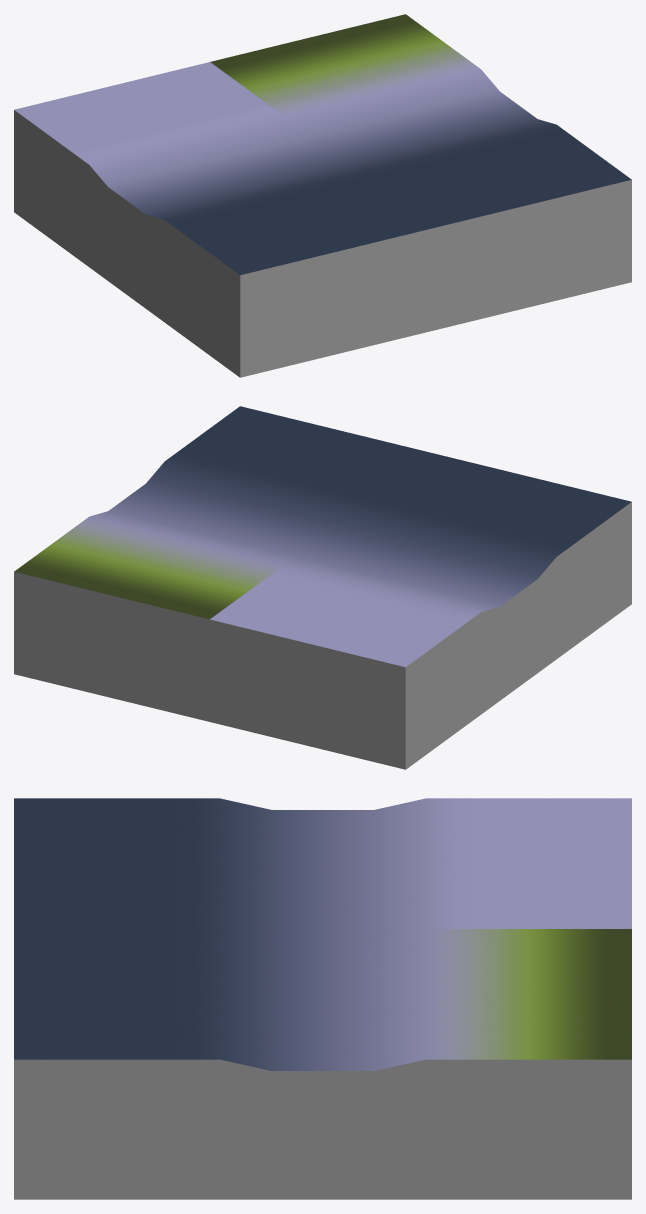
The model's file is PathFlatStraight.fbx.
3 renders of one model, top to bottom at view 1: azimuth 30°, elevation 25°; view 2: azimuth 150°, elevation 25°; view 3: azimuth 270°, elevation 25°, orthographic. The views are drawn at different scales.
Visible parts, largest first — view 1: PathFlatStraight; view 2: PathFlatStraight; view 3: PathFlatStraight.
Part boxes in pixels (x1,y1,x2,y2): PathFlatStraight: (14, 14, 631, 377); PathFlatStraight: (14, 406, 631, 769); PathFlatStraight: (14, 798, 631, 1199).
Bounding box in the file's own units: 1200 × 300 × 1200.
